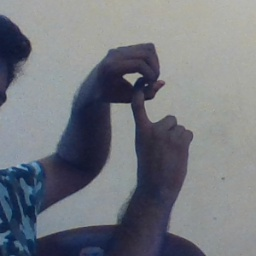Q: (77, 36, 198, 164)
